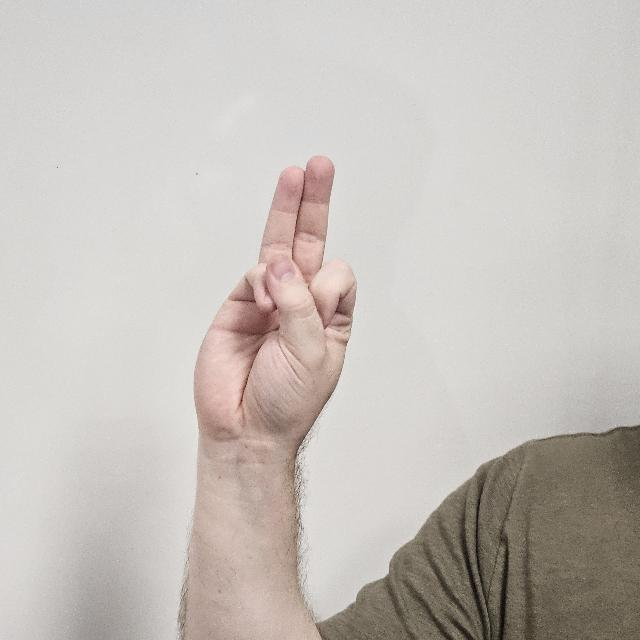R: (194, 152, 356, 458)
